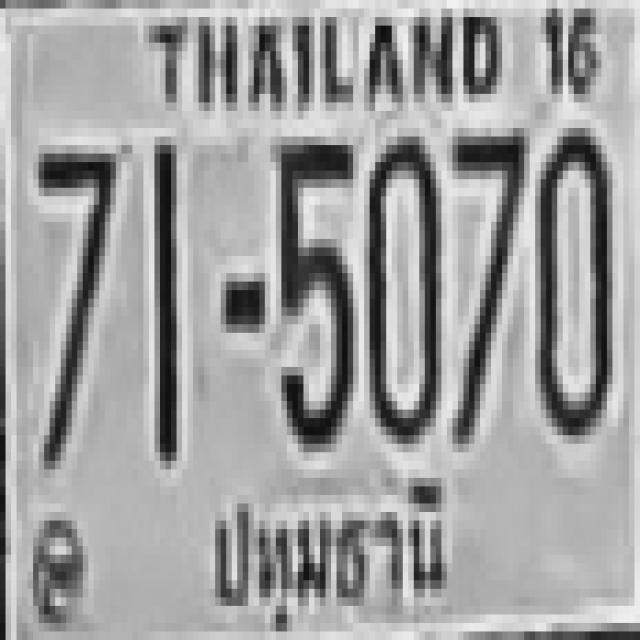0: (532, 124, 610, 431), (364, 128, 436, 435)
1: (149, 136, 177, 444)
5: (273, 136, 350, 444)
7: (36, 145, 113, 461), (447, 128, 524, 435), (36, 145, 113, 358)
PathumThani: (193, 470, 474, 640)
